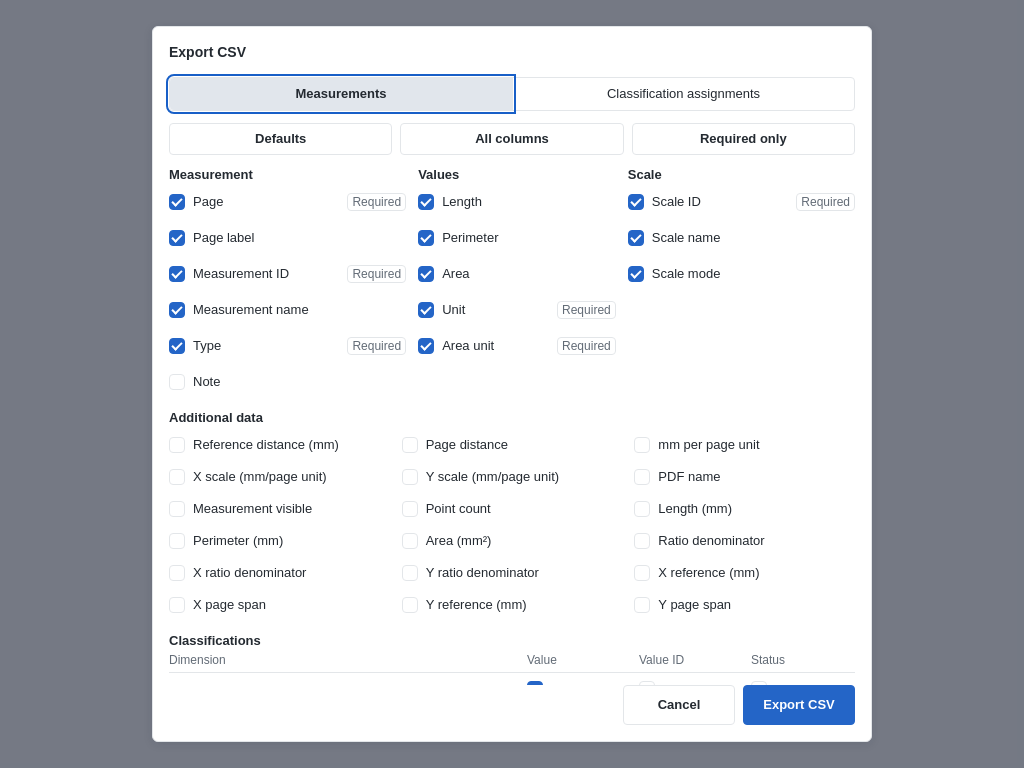
CsvExportDialog › keeps presets as actions and applies them to the measurement column draft
Check: the checkbox labelled "Measurement name" is checked, box left=169, top=302, right=185, bottom=318
Check: the checkbox labelled "Reference distance (mm)" is not checked, box left=169, top=437, right=185, bottom=453
Click the button "All columns". click: (512,139)
box: left=400, top=123, right=624, bottom=155
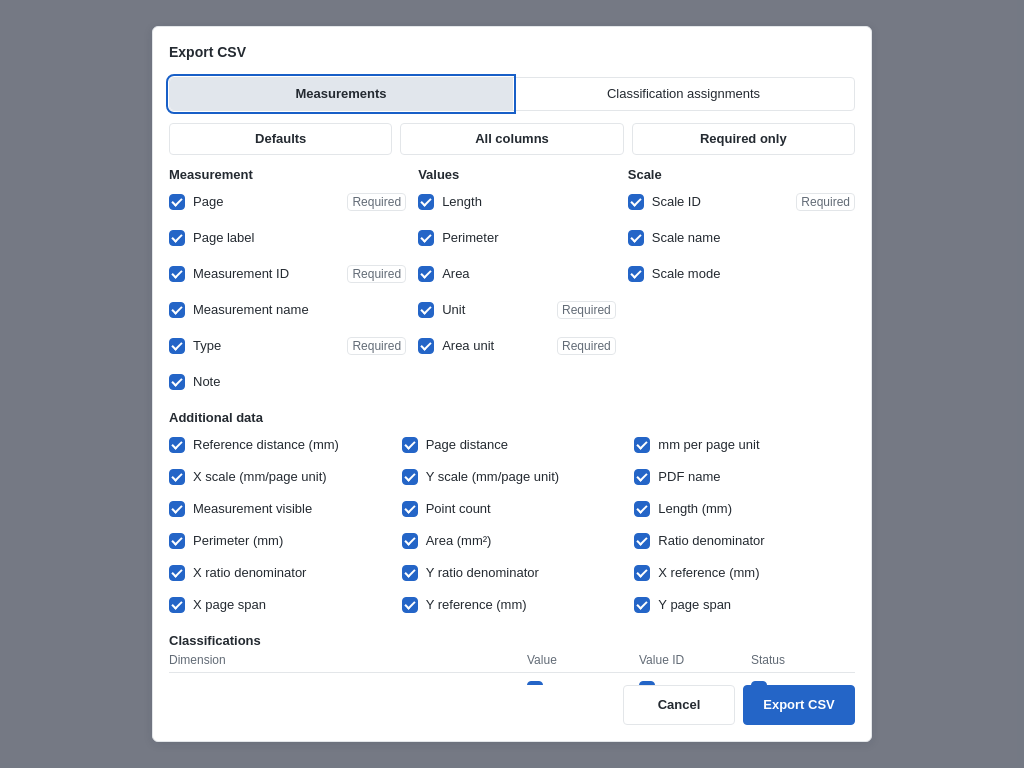
Check: the checkbox labelled "Reference distance (mm)" is checked, box left=169, top=437, right=185, bottom=453
Click the button "Required only". click: (743,139)
box: left=632, top=123, right=855, bottom=155
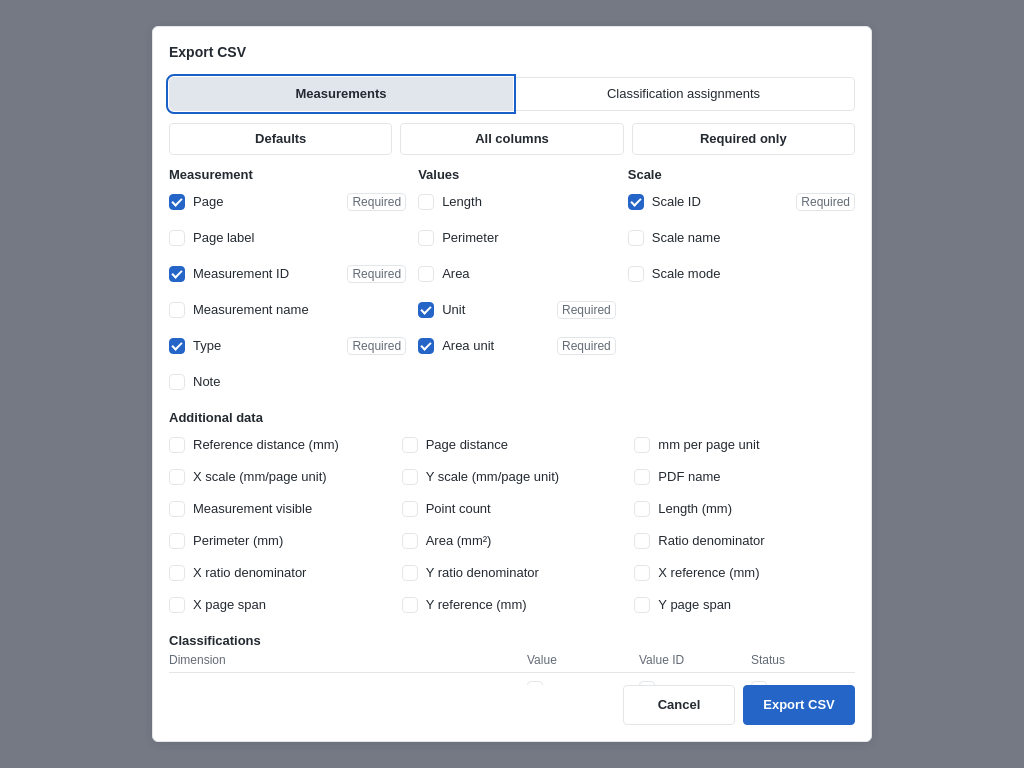
Check: the checkbox labelled "Measurement name" is not checked, box left=169, top=302, right=185, bottom=318
Click the button "Defaults". click: (281,139)
box: left=169, top=123, right=392, bottom=155
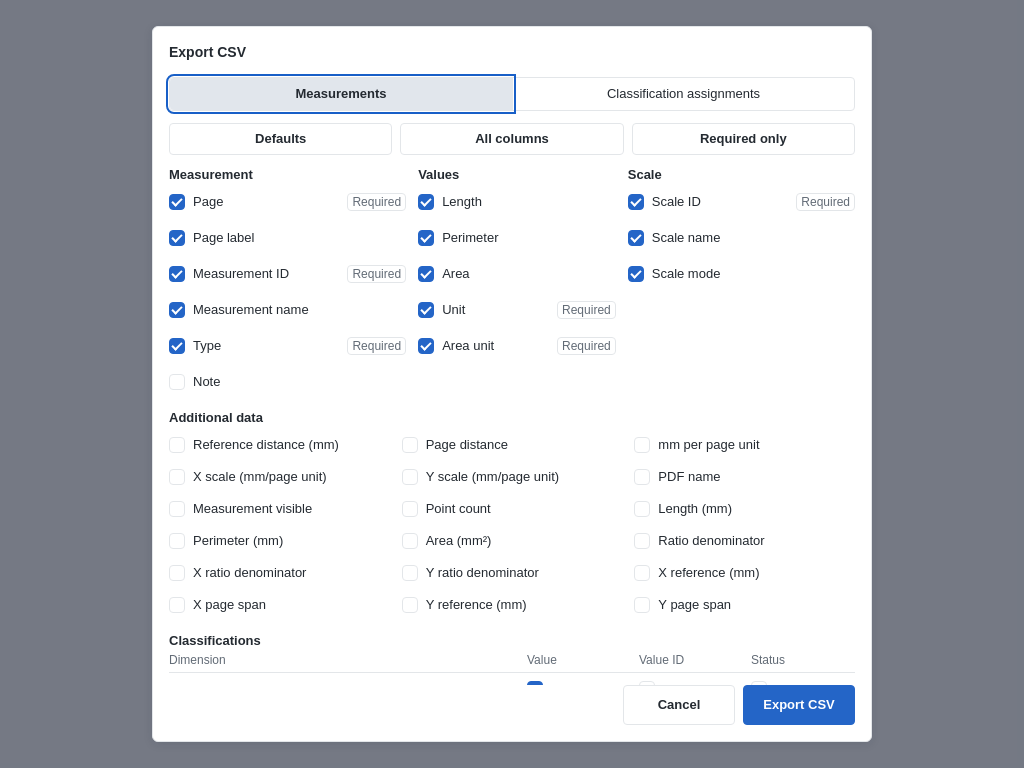
Check: the checkbox labelled "Reference distance (mm)" is not checked, box left=169, top=437, right=185, bottom=453
Check: the checkbox labelled "Measurement name" is checked, box left=169, top=302, right=185, bottom=318
